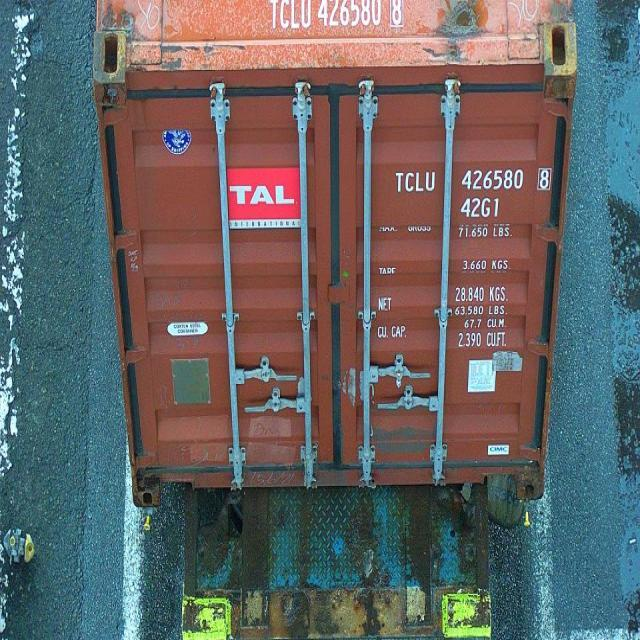ISO: (459, 197, 504, 220)
container_number: (398, 165, 554, 193)
